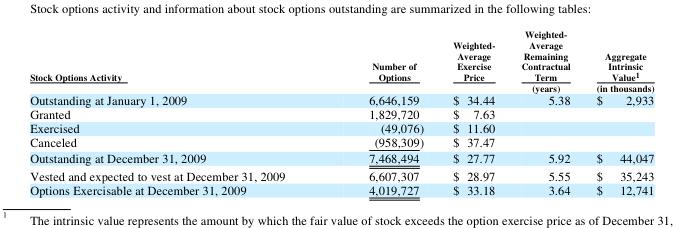table: (29, 28, 653, 196)
table column: (29, 28, 326, 196), (326, 28, 437, 196), (507, 28, 582, 196), (582, 28, 653, 196), (437, 28, 507, 196)
table column header: (29, 28, 653, 93)
table row: (29, 28, 653, 93), (29, 149, 653, 166), (29, 166, 653, 182), (29, 120, 653, 135), (29, 106, 653, 120), (29, 135, 653, 149), (29, 182, 653, 196), (29, 93, 653, 106)
